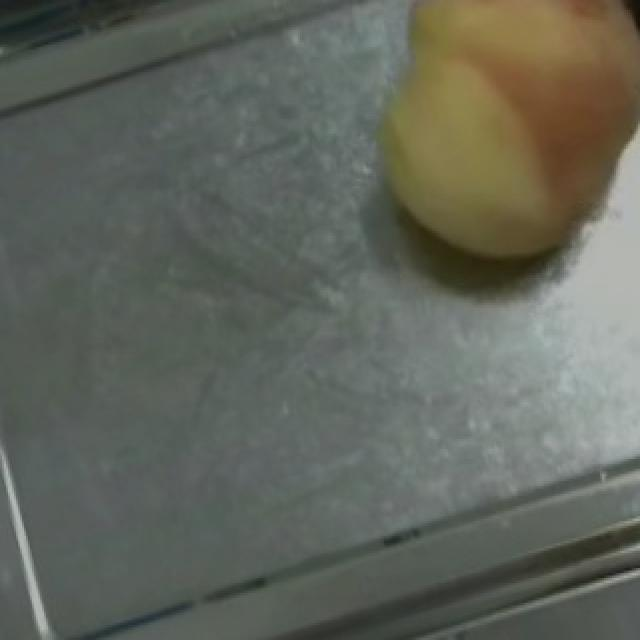Fruit: (336, 0, 640, 298)
